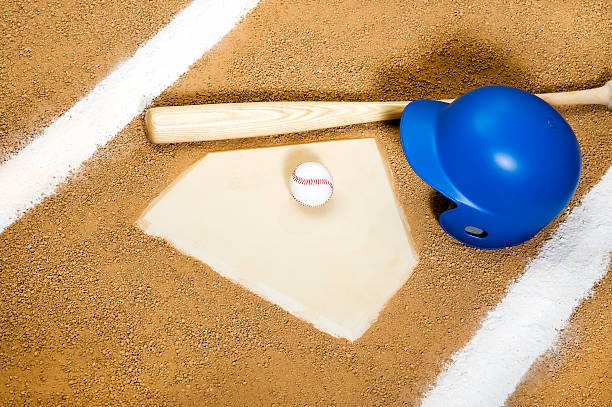bita: (134, 93, 396, 145)
